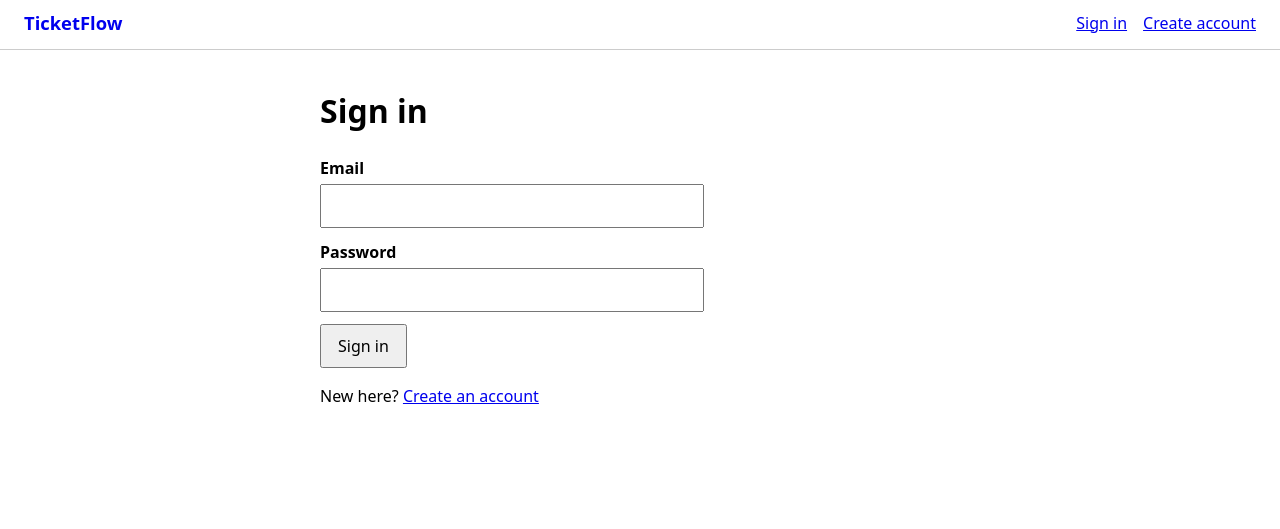
Test: the sign in page › shows the reference when something unexpected went wrong
The image size is (1280, 529).
Expected: the heading "Sign in" is shown, left=320, top=89, right=428, bottom=132
Step 1. Type "ada@example.com" into the field labelled "Email" → (512, 206), box left=320, top=184, right=704, bottom=228
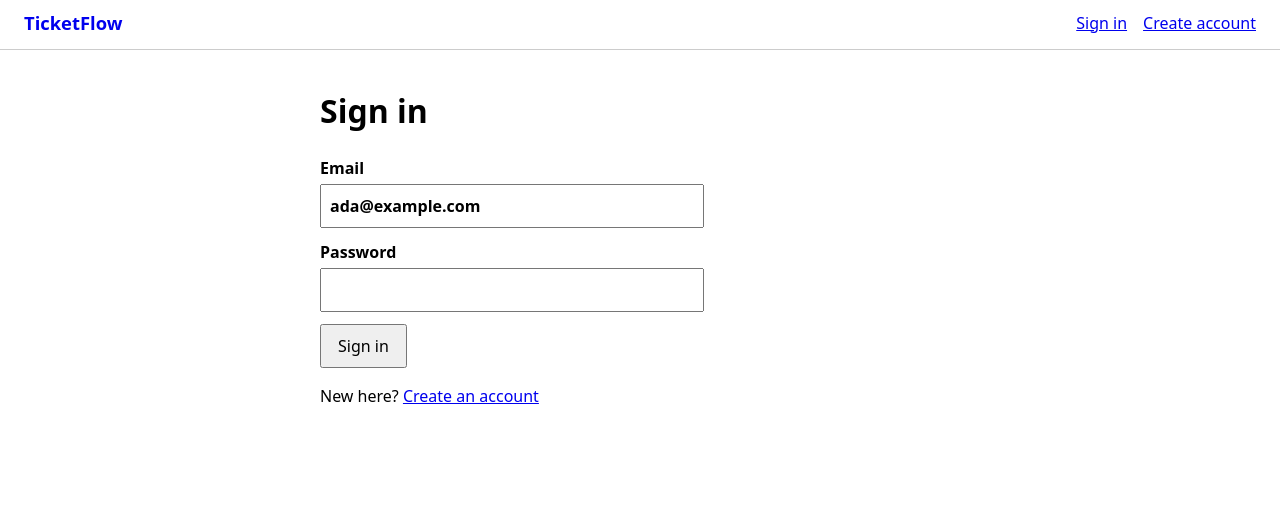
Step 2. Type "a long password" into the password field labelled "Password" → (512, 290), box left=320, top=268, right=704, bottom=312
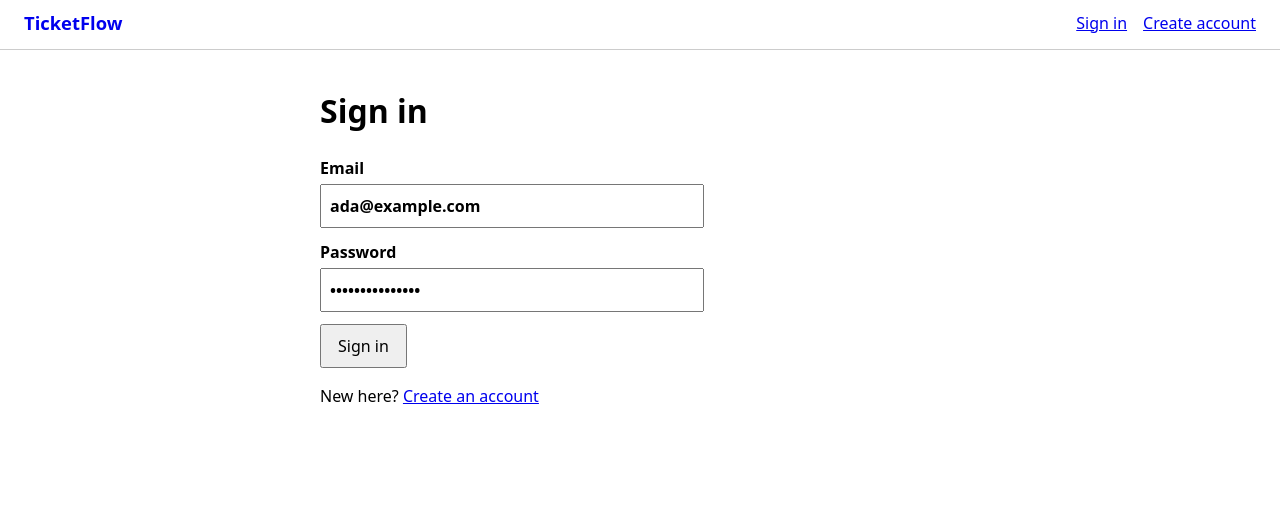
Step 3. Click the button "Sign in" → (363, 346), box left=320, top=324, right=407, bottom=368
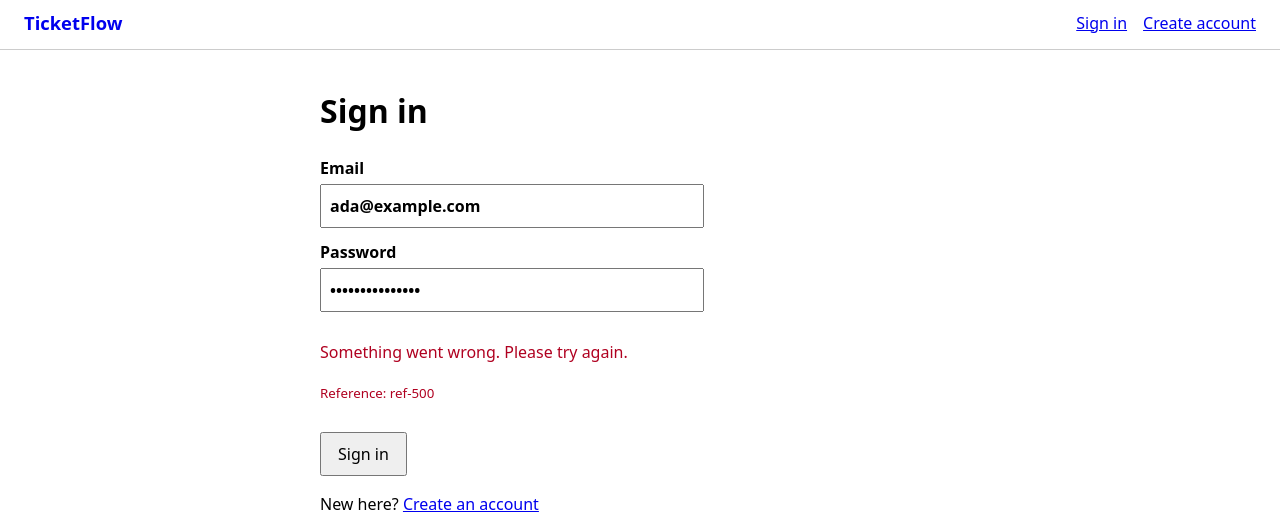
Expected: the message shows "Something went wrong", left=320, top=342, right=628, bottom=364
Expected: the text "Reference: ref-500" is shown, left=320, top=384, right=434, bottom=402
